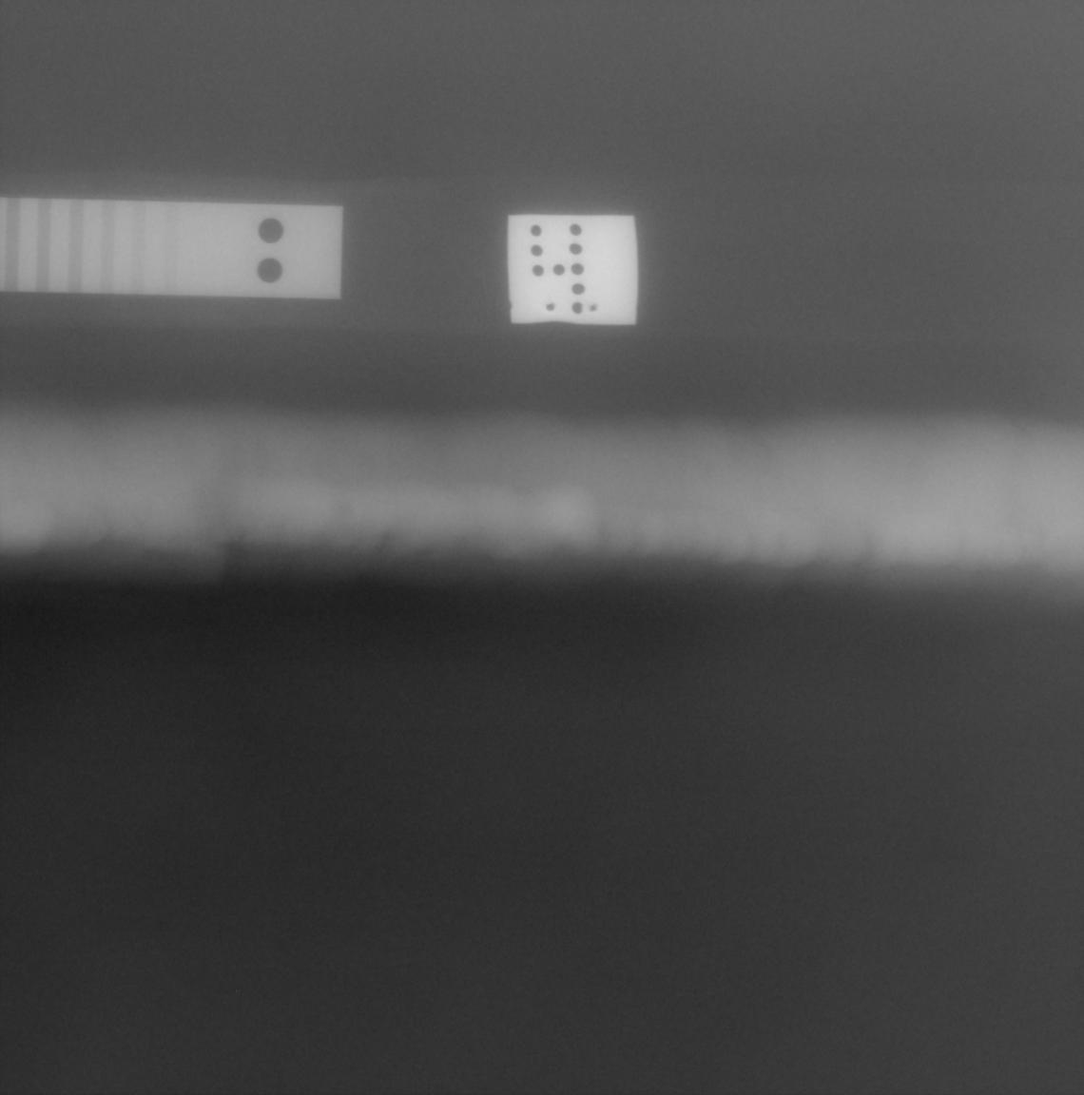Pore/Porosity: (885, 573, 891, 581)
